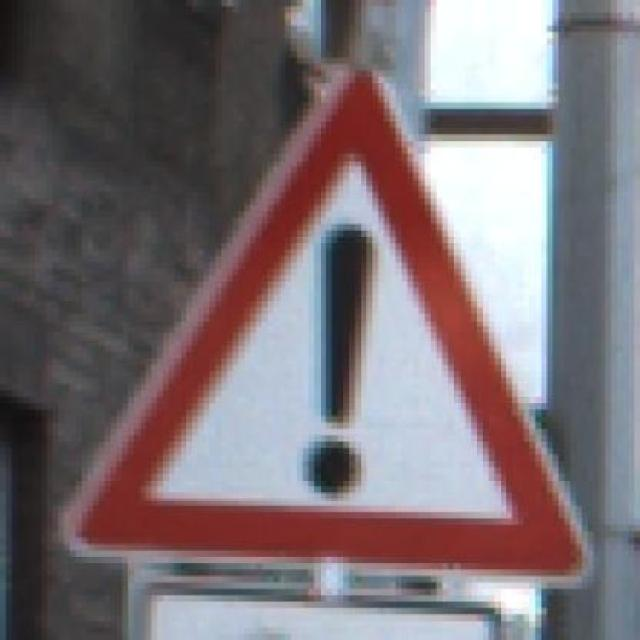Attention Please-: (41, 63, 605, 595)
